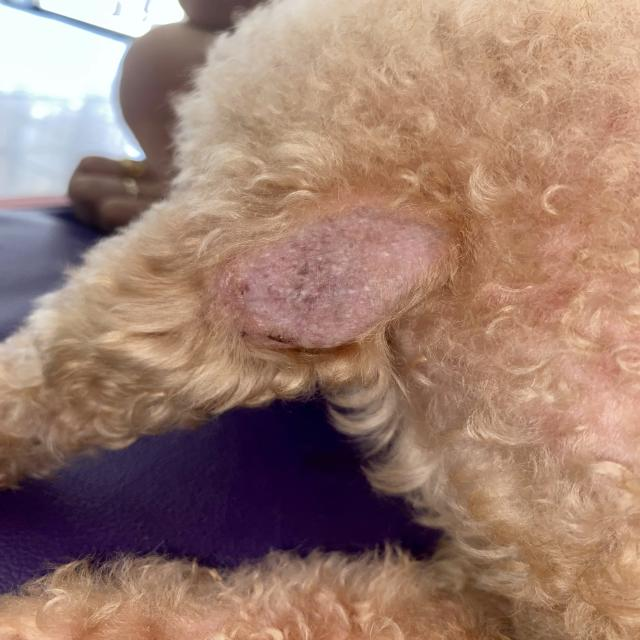ringworm: (196, 187, 459, 363)
